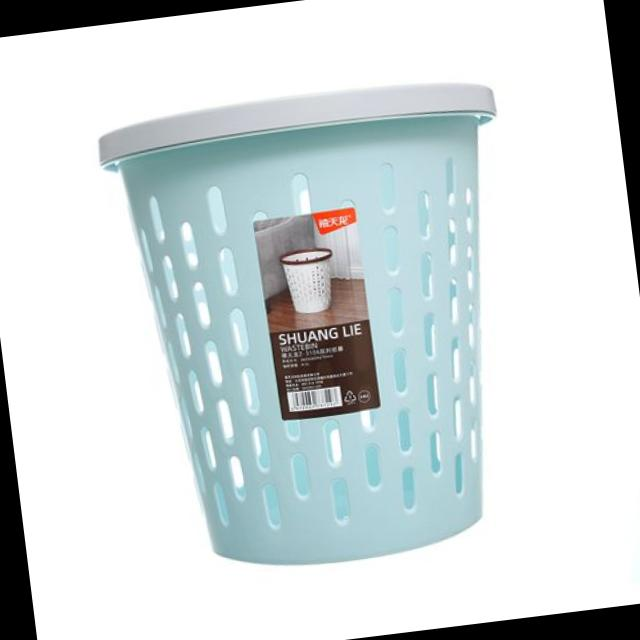dustbin: (91, 66, 553, 588)
